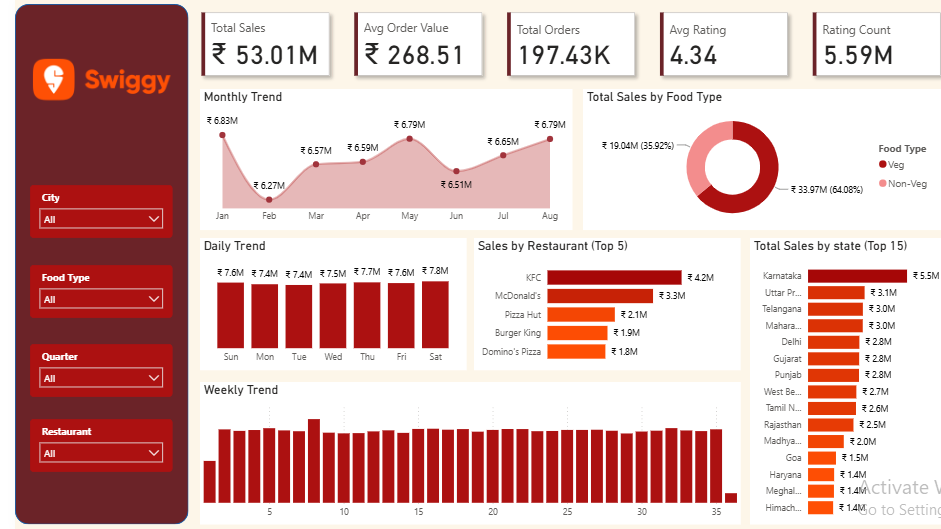

Layout of this report page (visuals, bound fields, positions):
{"tool":"powerbi","page":{"name":"Page 1","canvas":[1280,720],"ordinal":0},"visuals":[{"type":"shape","box":[0,5.8,236.2,708.5],"z":0},{"type":"cardVisual","fields":{"Data":["dim_fact_orders.Total Sales","dim_fact_orders.Avg Order Value","dim_fact_orders.Total Orders","Avg(dim_fact_orders.rating)","Sum(dim_fact_orders.rating_count)"]},"box":[236.2,0,1044,121],"z":1000},{"type":"areaChart","title":"Monthly Trend","fields":{"Category":["dim_date.Month"],"Y":["dim_fact_orders.Total Sales"]},"box":[252,121,506.9,191.5],"z":1001},{"type":"donutChart","fields":{"Category":["dim_dim_dish.Food Type"],"Y":["dim_fact_orders.Total Sales"]},"box":[773.3,121,491,191.5],"z":1002},{"type":"columnChart","title":"Daily Trend","fields":{"Category":["dim_date.Day"],"Y":["dim_fact_orders.Total Sales"]},"box":[252,324,362.9,180],"z":1003},{"type":"barChart","title":"Sales by Restaurant (Top 5)","fields":{"Category":["dim_dim_restaurant.restaurant_name"],"Y":["dim_fact_orders.Total Sales"]},"box":[625,324,362.9,180],"z":1004},{"type":"barChart","title":"Total Sales by state (Top 15)","fields":{"Category":["dim_location.state"],"Y":["dim_fact_orders.Total Sales"]},"box":[1000.8,324,263.5,390.2],"z":1005},{"type":"columnChart","title":"Weekly Trend","fields":{"Category":["dim_date.Week Number"],"Y":["dim_fact_orders.Total Sales"]},"box":[252,519.8,735.8,194.4],"z":1006},{"type":"slicer","fields":{"Values":["dim_location.city"]},"box":[20.2,252,194.4,72],"z":1007},{"type":"slicer","fields":{"Values":["dim_dim_dish.Food Type"]},"box":[20.2,360,194.4,72],"z":1008},{"type":"slicer","fields":{"Values":["dim_date.Quarter"]},"box":[20.2,468,194.4,72],"z":1009},{"type":"slicer","fields":{"Values":["dim_dim_restaurant.restaurant_name"]},"box":[20.2,570.2,194.4,72],"z":1010},{"type":"image","box":[0,0,236.2,217.4],"z":1011}]}

Visuals, with their boxes in screenshot pixels (x1, y1, x2, y2), scaled from the page's 1280x720 canvas onto the 941x529 screenshot:
shape: bbox=[0, 4, 174, 525]
cardVisual - dim_fact_orders.Total Sales x dim_fact_orders.Avg Order Value: bbox=[174, 0, 940, 89]
"Monthly Trend" areaChart: bbox=[185, 89, 558, 230]
donutChart - dim_dim_dish.Food Type x dim_fact_orders.Total Sales: bbox=[568, 89, 929, 230]
"Daily Trend" columnChart: bbox=[185, 238, 452, 370]
"Sales by Restaurant (Top 5)" barChart: bbox=[459, 238, 726, 370]
"Total Sales by state (Top 15)" barChart: bbox=[736, 238, 929, 525]
"Weekly Trend" columnChart: bbox=[185, 382, 726, 525]
slicer - dim_location.city: bbox=[15, 185, 158, 238]
slicer - dim_dim_dish.Food Type: bbox=[15, 264, 158, 317]
slicer - dim_date.Quarter: bbox=[15, 344, 158, 397]
slicer - dim_dim_restaurant.restaurant_name: bbox=[15, 419, 158, 472]
image: bbox=[0, 0, 174, 160]
